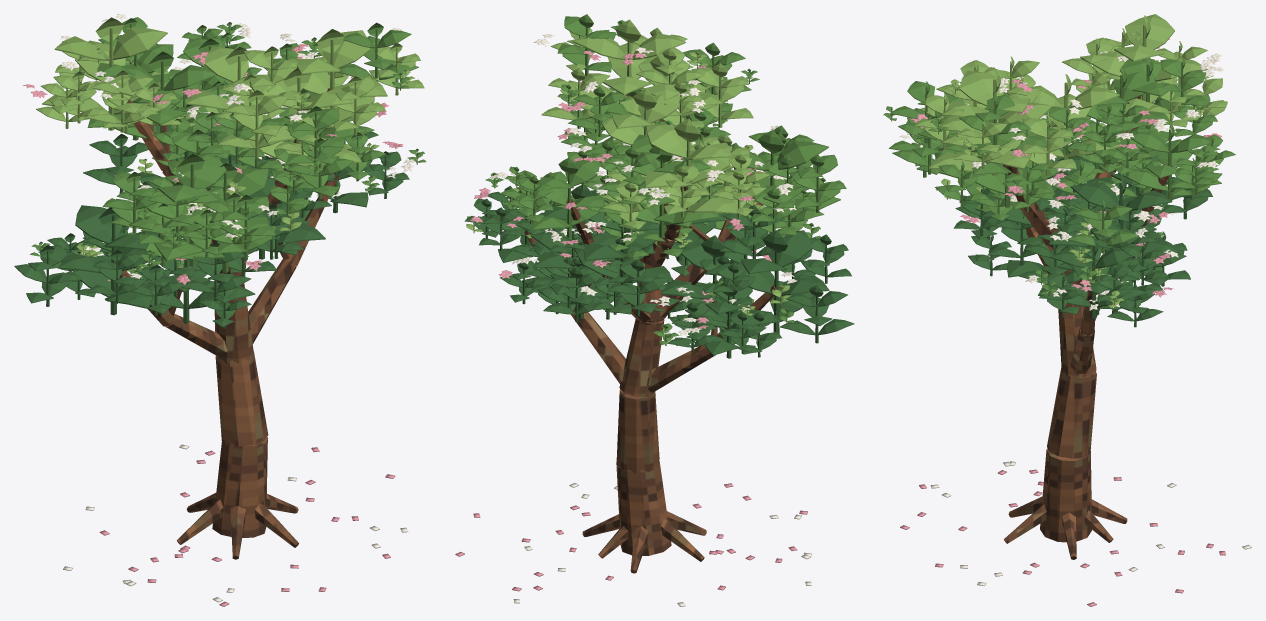
3 renders of one model, left to right at view 1: azimuth 30°, elevation 25°; view 2: azimuth 150°, elevation 25°; view 3: azimuth 270°, elevation 25°, orthographic. The views are drawn at different scales.
Parts seen in each view (by area): view 1: lane_leaf, lane_leaf_light, lane_leaf_dark, lane_bark, lane_flower_white, lane_flower_pink; view 2: lane_leaf_dark, lane_leaf, lane_leaf_light, lane_bark, lane_flower_white, lane_flower_pink; view 3: lane_leaf, lane_leaf_light, lane_leaf_dark, lane_bark, lane_flower_white, lane_flower_pink.
Boxes of the visible parts, x1=… form: lane_leaf: x1=30, y1=17, x2=426, y2=278; lane_leaf_light: x1=36, y1=17, x2=424, y2=257; lane_leaf_dark: x1=14, y1=104, x2=409, y2=328; lane_bark: x1=116, y1=88, x2=338, y2=559; lane_flower_white: x1=61, y1=14, x2=415, y2=602; lane_flower_pink: x1=23, y1=44, x2=403, y2=606; lane_leaf_dark: x1=464, y1=184, x2=854, y2=358; lane_leaf: x1=485, y1=14, x2=846, y2=345; lane_leaf_light: x1=466, y1=19, x2=791, y2=315; lane_bark: x1=524, y1=77, x2=779, y2=573; lane_flower_white: x1=490, y1=34, x2=811, y2=606; lane_flower_pink: x1=455, y1=51, x2=807, y2=591; lane_leaf: x1=883, y1=57, x2=1235, y2=296; lane_leaf_light: x1=915, y1=14, x2=1227, y2=308; lane_leaf_dark: x1=953, y1=141, x2=1212, y2=327; lane_bark: x1=1004, y1=96, x2=1172, y2=559; lane_flower_white: x1=899, y1=51, x2=1251, y2=585; lane_flower_pink: x1=900, y1=39, x2=1225, y2=606.
Size of the model in its own units: 3.26 by 4.13 by 2.82.
Materials: 7 (1 with a texture image).
